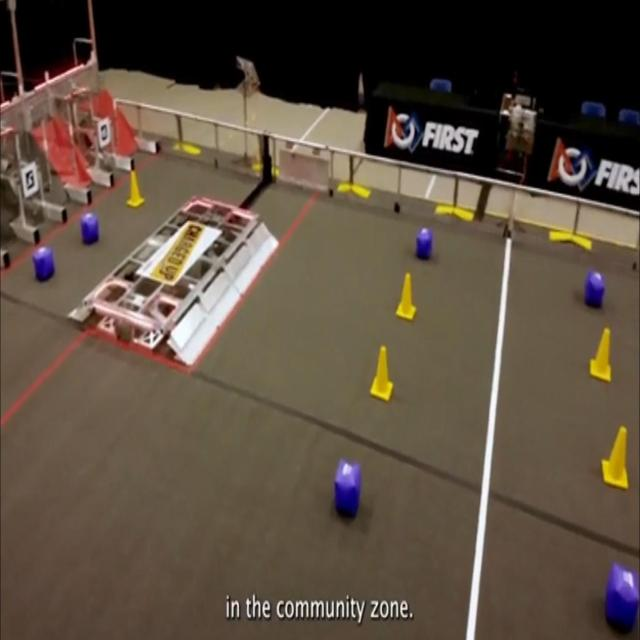frc_cone: (601, 424, 629, 489), (370, 346, 394, 402), (590, 328, 612, 383), (397, 274, 418, 321), (126, 170, 144, 208)
frc_cube: (606, 562, 638, 632), (335, 461, 361, 517), (584, 270, 604, 307), (34, 246, 54, 281), (415, 228, 434, 260), (80, 214, 99, 245)
